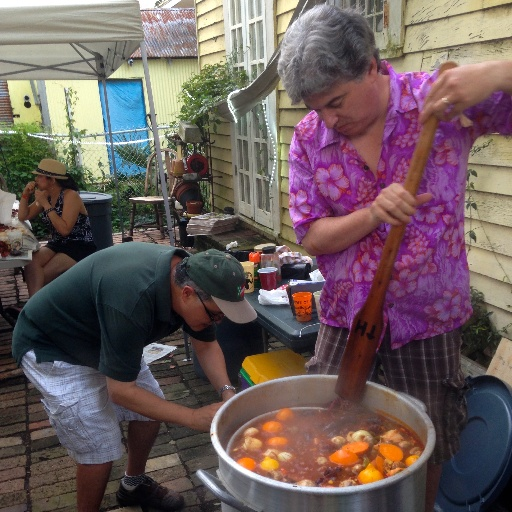hand: (414, 61, 503, 125), (373, 177, 444, 229), (195, 401, 224, 434), (32, 188, 49, 209), (23, 180, 35, 195)
